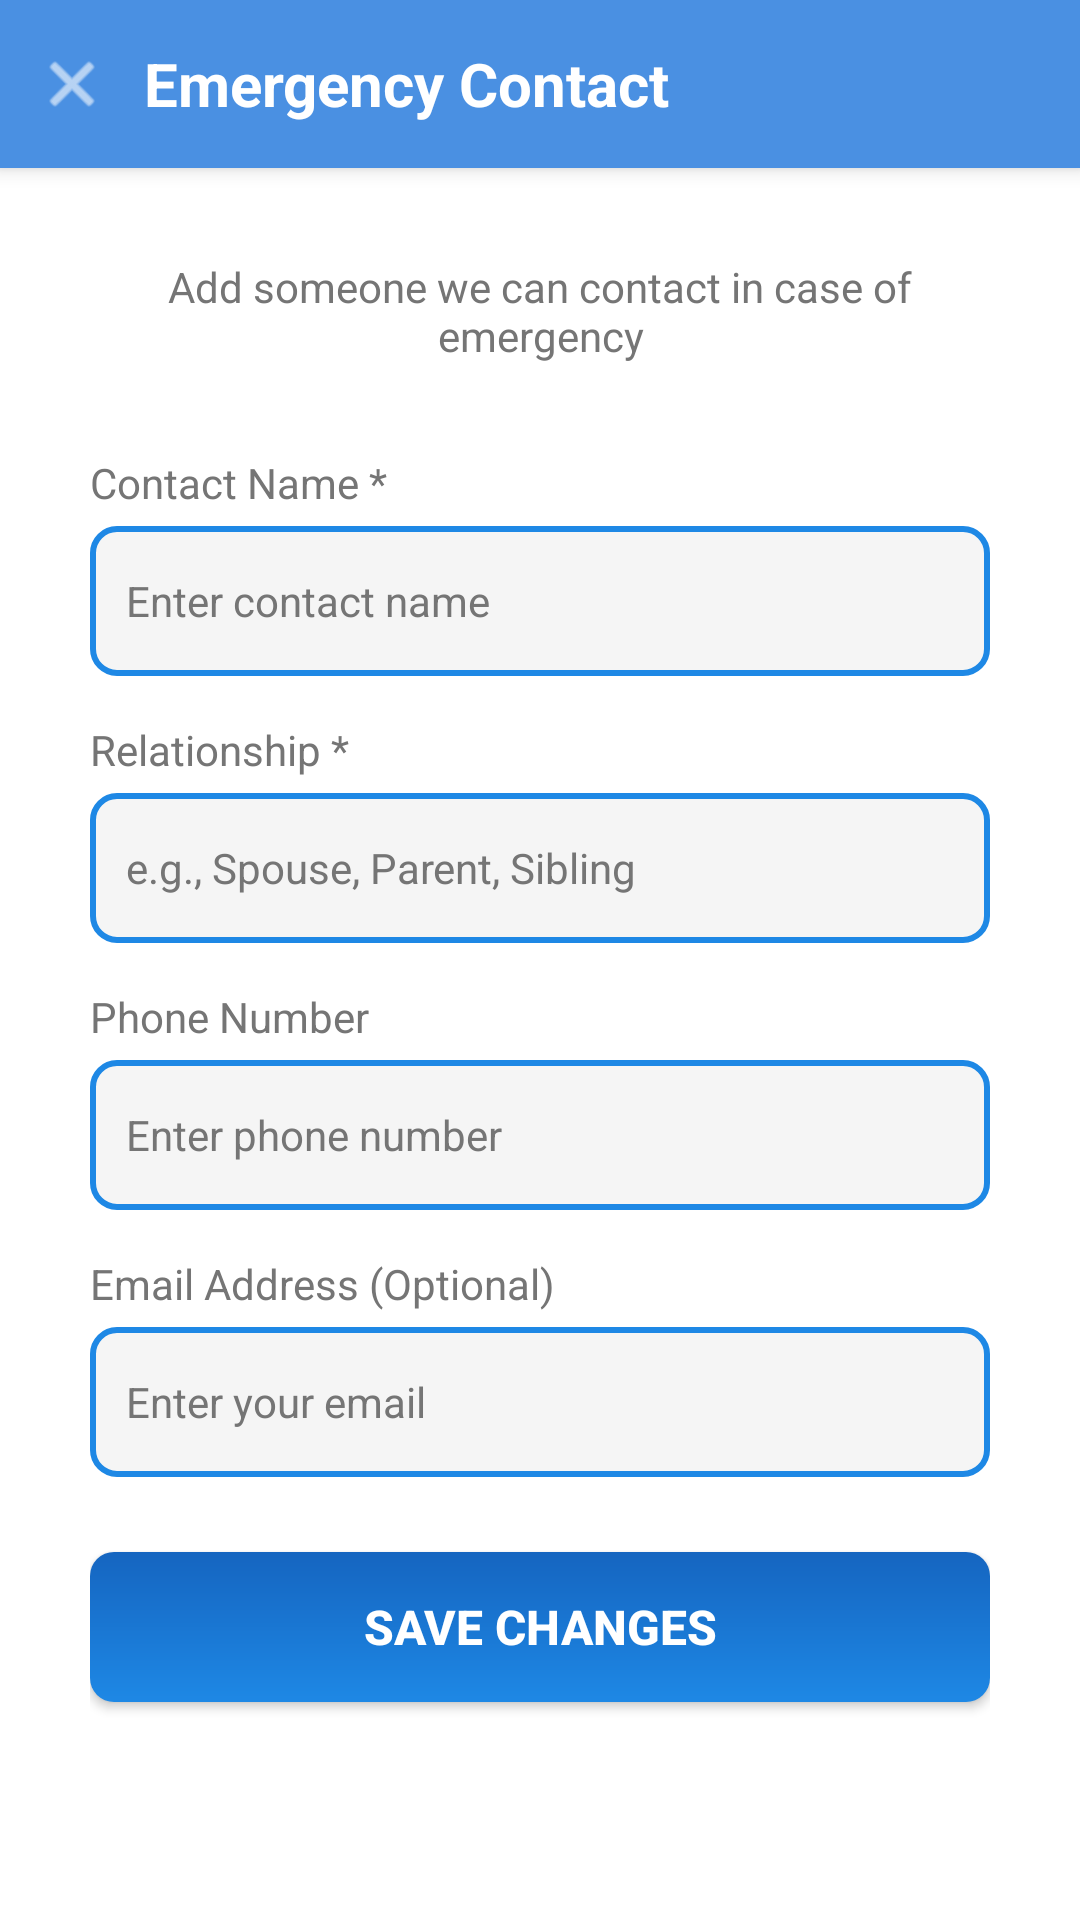

Where to tap for icons on this 1080 x 1920 app screen, as (x=x, y=y):
Close: (x=72, y=84)
